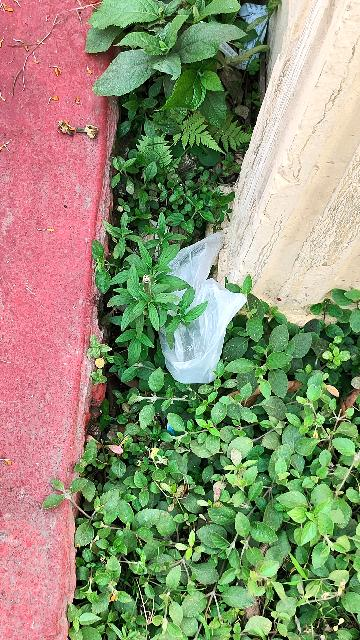polythene: (130, 231, 239, 392)
